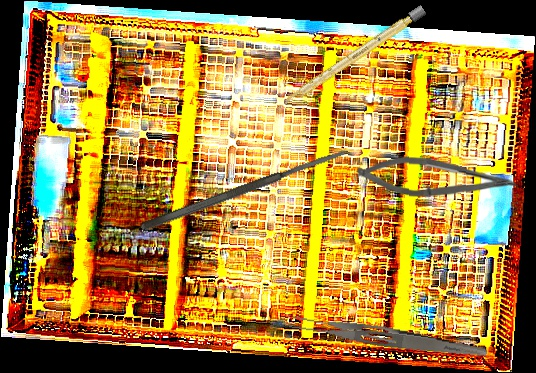Dressing Forceps: (288, 311, 489, 361)
Micro Scissor: (356, 155, 519, 199)
Scalpel Handle: (281, 4, 427, 109)
Spatula Surgical: (138, 146, 349, 234)
